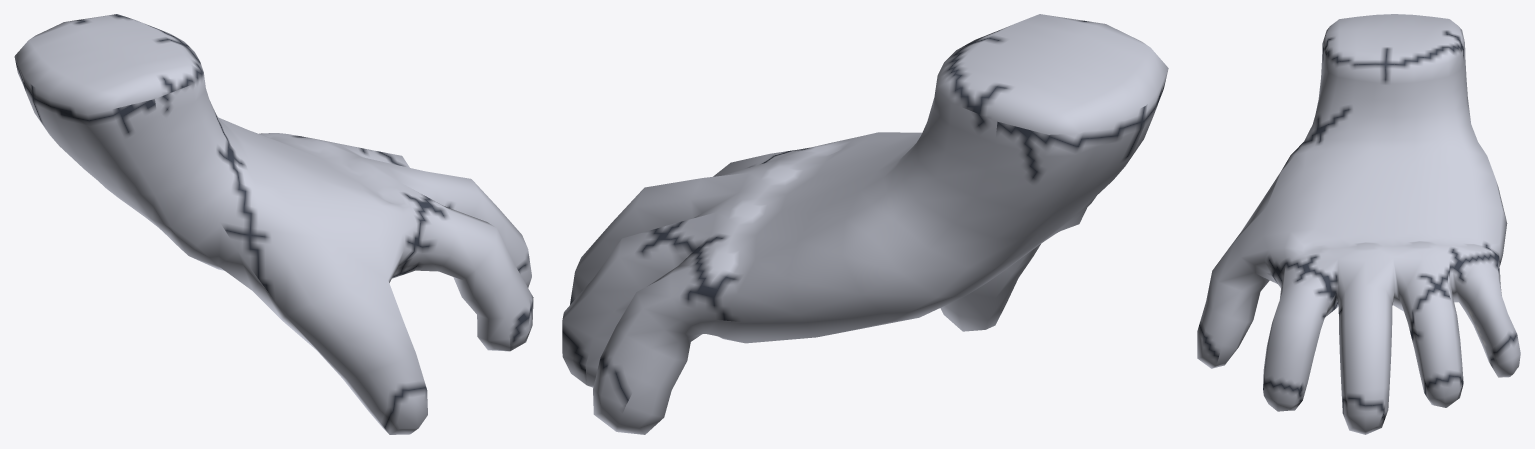
File: arm (2).fbx
The picture shows the model from 3 angles, left to right: view 1: azimuth 30°, elevation 25°; view 2: azimuth 150°, elevation 25°; view 3: azimuth 270°, elevation 25°; orthographic projection. The views are drawn at different scales.
Visible parts, largest first — view 1: arm; view 2: arm; view 3: arm.
Part boxes in pixels (x1=…): arm: x1=14, y1=14, x2=533, y2=434; arm: x1=562, y1=14, x2=1168, y2=434; arm: x1=1197, y1=14, x2=1520, y2=434.
Size of the model in its own units: 0.8237 by 0.5716 by 0.6236.
